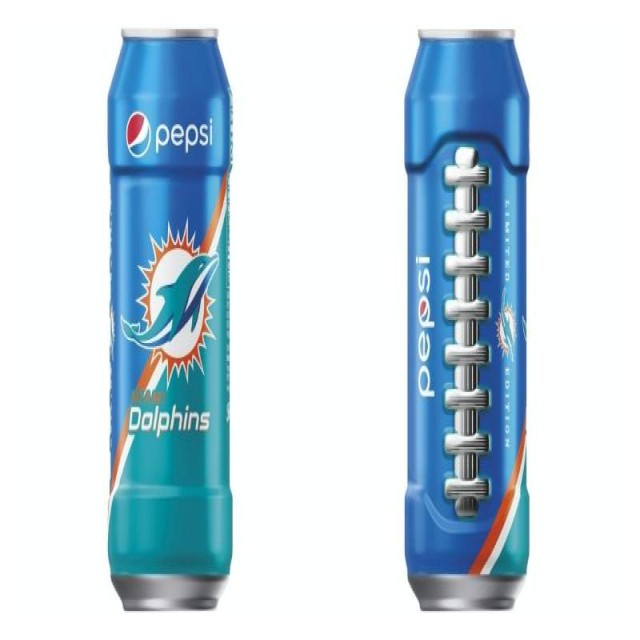pepsi: (414, 250, 438, 398), (125, 111, 153, 162)
